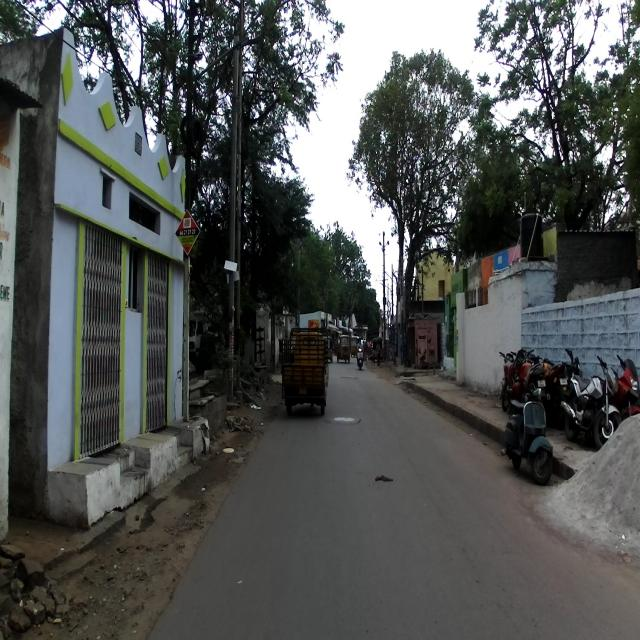autorickshaw: (280, 326, 330, 418)
motorcycle: (559, 353, 622, 449), (589, 353, 639, 422)
scooter: (500, 386, 553, 486), (356, 344, 365, 370)
